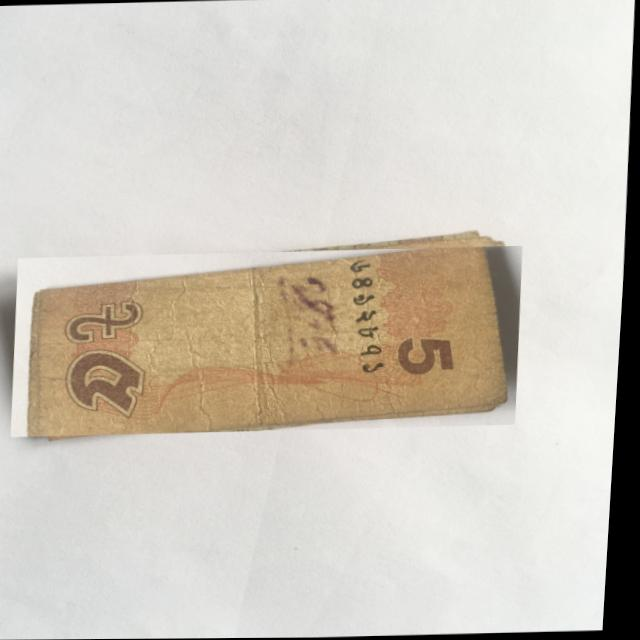Taka: (12, 246, 529, 437)
